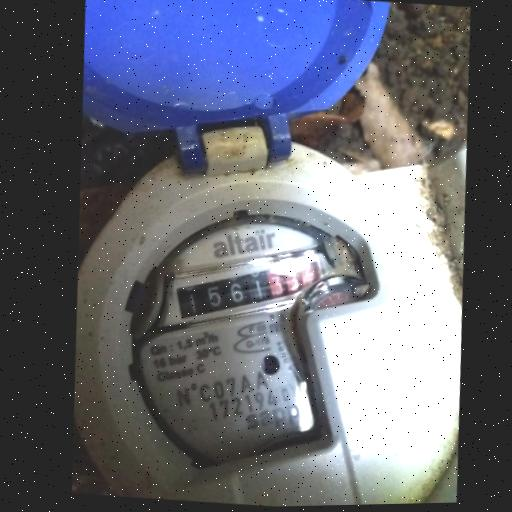1: (173, 283, 208, 322), (243, 269, 276, 304)
2: (294, 260, 323, 291)
3: (263, 265, 292, 300), (280, 263, 307, 297)
5: (194, 277, 232, 317)
6: (219, 272, 255, 311)
border_water_meter_number: (140, 236, 344, 345)
